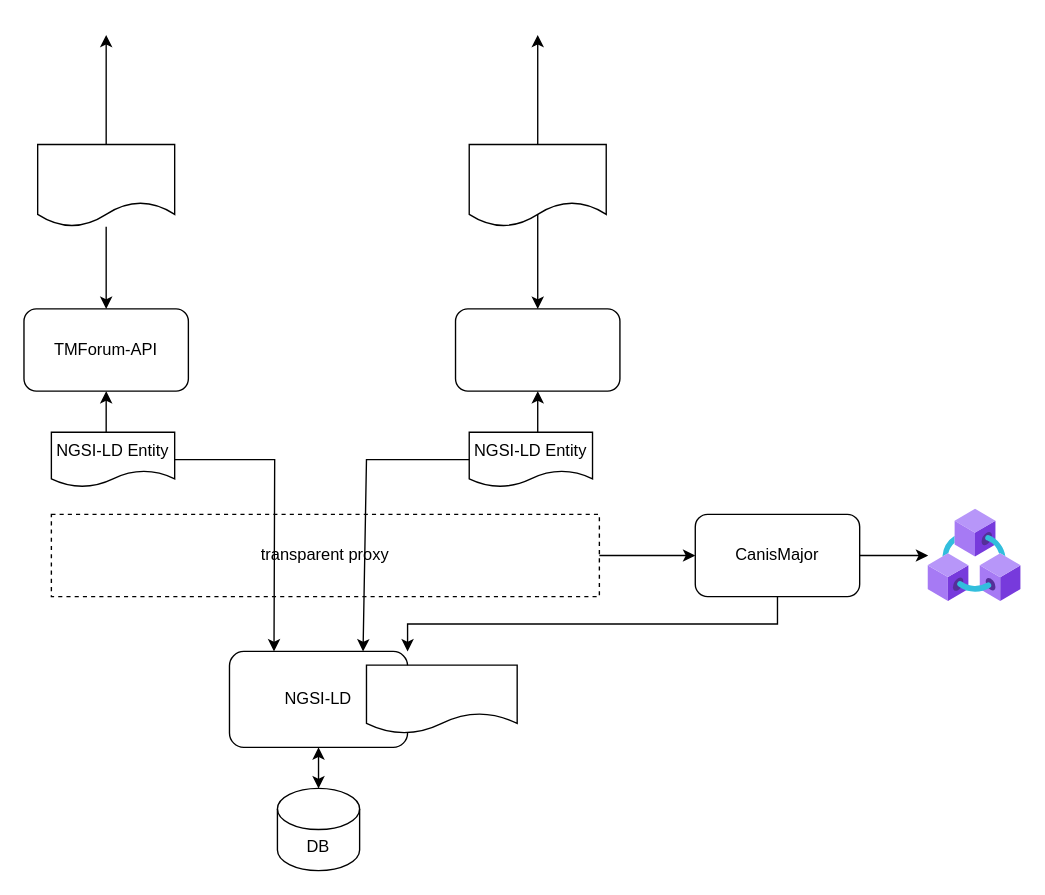
This 1045x895 diagram has some shape labels left out. The shapes that lost their labels are listed below. From the top down, each one's box as (x1, y1, x2, y2) in pixels, then its label:
(36, 143, 175, 227): TMForum Object
(468, 143, 606, 227): Gaia-X SelfDescription
(454, 308, 620, 391): Gaia-X API
(365, 664, 517, 734): SmartDatamodel
